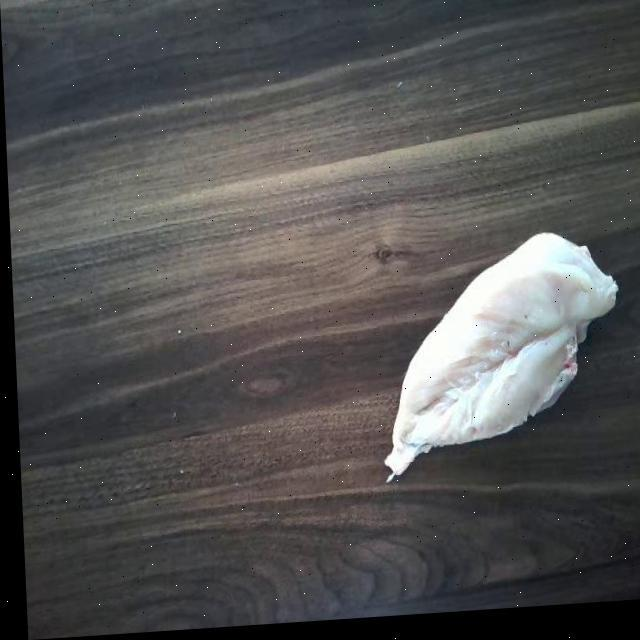breast: (366, 234, 620, 480)
